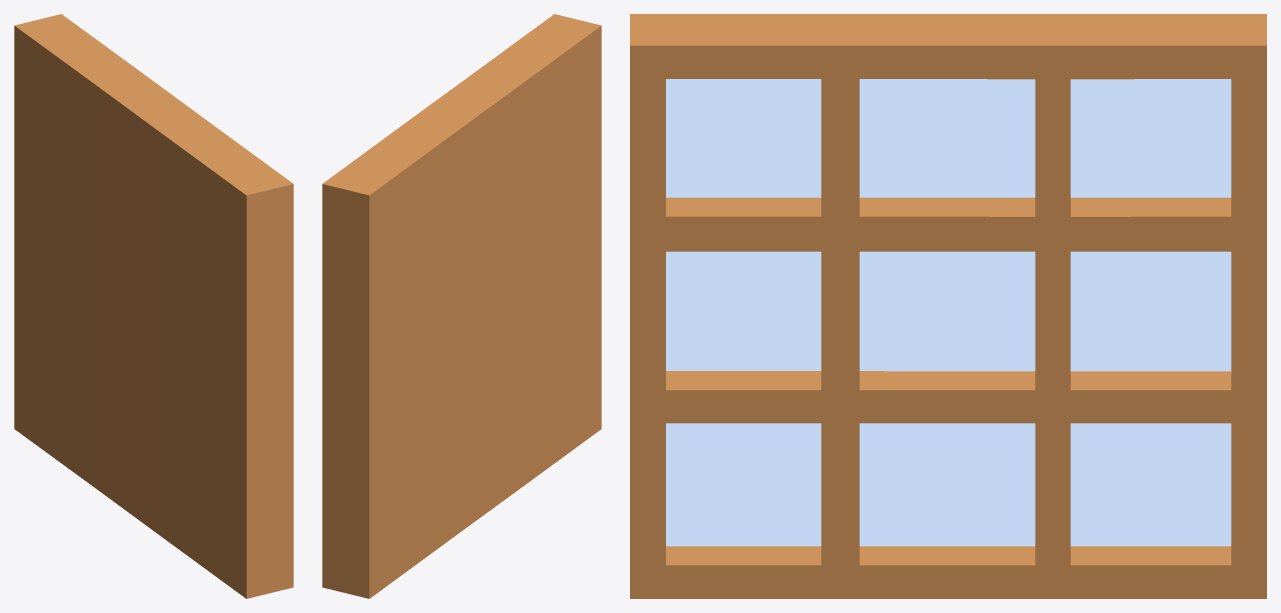
Rendered from window.glb.
3 renders of one model, left to right at view 1: azimuth 30°, elevation 25°; view 2: azimuth 150°, elevation 25°; view 3: azimuth 270°, elevation 25°, orthographic. The views are drawn at different scales.
Visible parts, largest first — view 1: Frame; view 2: Frame; view 3: Frame, Glass.
Part boxes in pixels (x1,y1,x2,y2): Frame: [14, 14, 293, 598]; Frame: [322, 14, 601, 598]; Frame: [630, 14, 1266, 598]; Glass: [666, 79, 1231, 546].
Bounding box in the file's own units: 0.4236 × 3.45 × 3.6.
